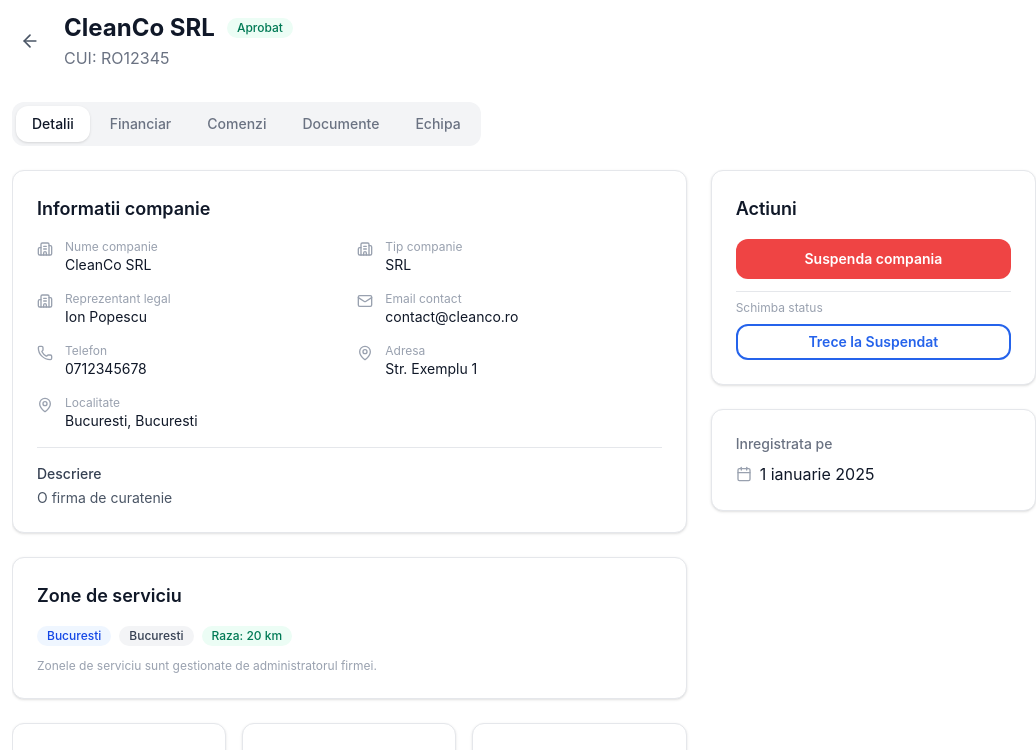
Test: CompanyDetailPage - Documente tab › shows company documents when Documente tab is clicked
Click the button "Documente": click(341, 124) [286,106,395,142]
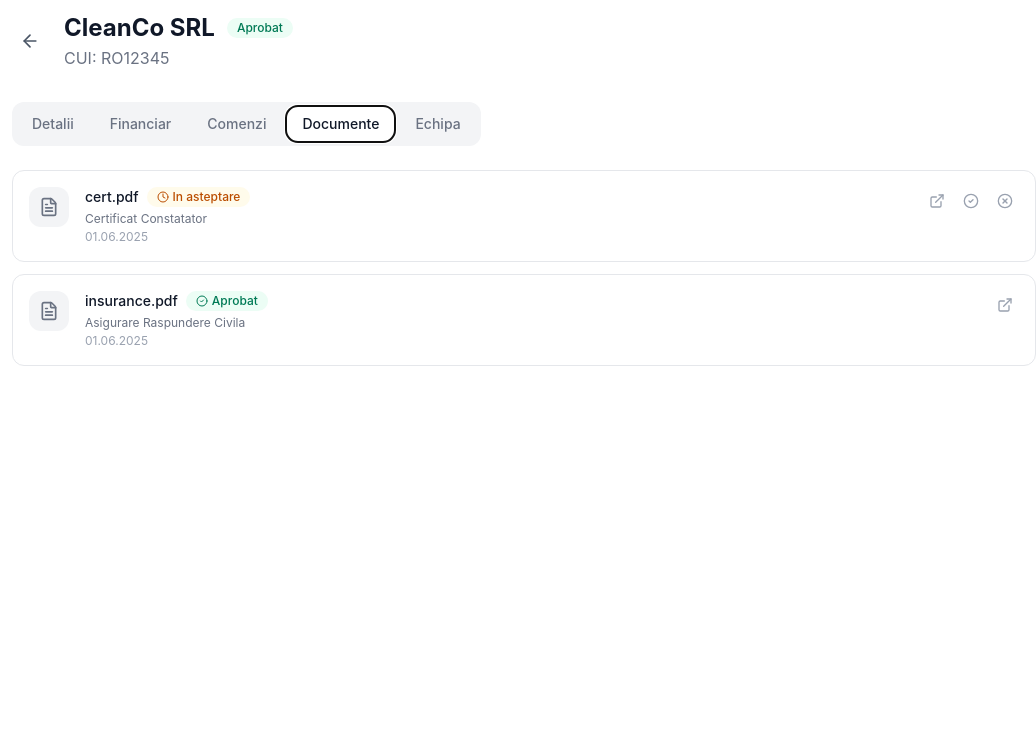
Result: the text "cert.pdf" is shown at [85,187,139,207]
Result: the text "insurance.pdf" is shown at [85,291,178,311]
